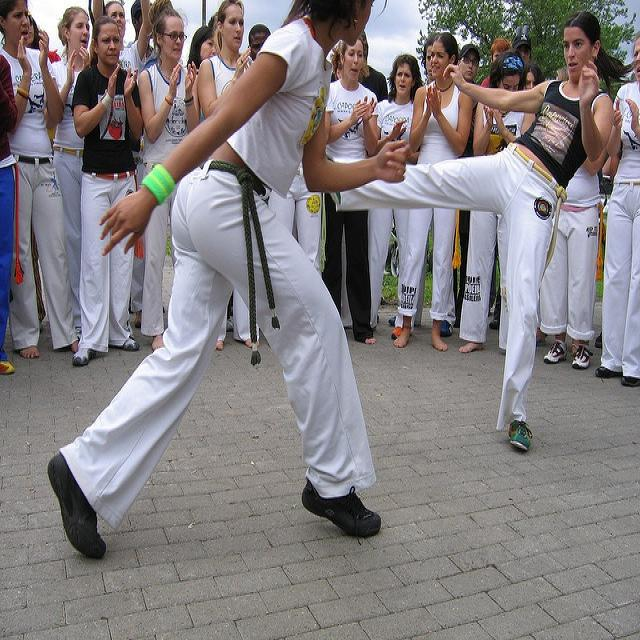body: (41, 0, 396, 567), (326, 7, 638, 453), (0, 0, 81, 357), (66, 12, 146, 368), (390, 31, 475, 354), (457, 51, 535, 356), (537, 62, 610, 370), (136, 4, 200, 353), (319, 33, 379, 347), (42, 4, 92, 343), (367, 51, 426, 333), (594, 32, 639, 388), (453, 41, 484, 328), (594, 100, 625, 357), (195, 0, 255, 120), (0, 44, 21, 376), (323, 26, 390, 101), (478, 36, 545, 101), (121, 0, 159, 73), (19, 8, 60, 67), (128, 228, 148, 337), (486, 234, 503, 334), (185, 24, 218, 75), (103, 0, 131, 60), (204, 8, 231, 59), (247, 22, 272, 62), (421, 39, 436, 85)
